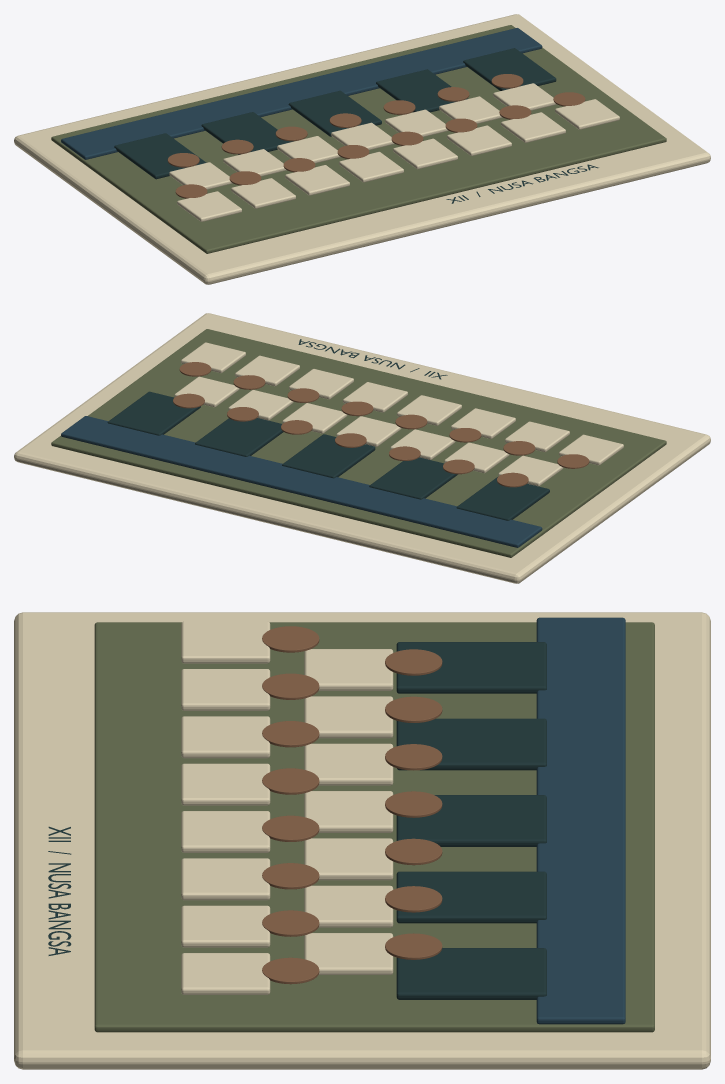
The model's file is original_photo.glb.
The picture shows the model from 3 angles, top to bottom: view 1: azimuth 30°, elevation 25°; view 2: azimuth 150°, elevation 25°; view 3: azimuth 270°, elevation 25°; orthographic projection. The views are drawn at different scales.
Visible parts, largest first — view 1: original_photo; view 2: original_photo; view 3: original_photo.
Part boxes in pixels (<box>): original_photo: <box>14,14,710,284</box>; original_photo: <box>14,313,710,583</box>; original_photo: <box>14,612,710,1069</box>.
Size of the model in its own units: 0.15 by 0.00701 by 0.0994.
